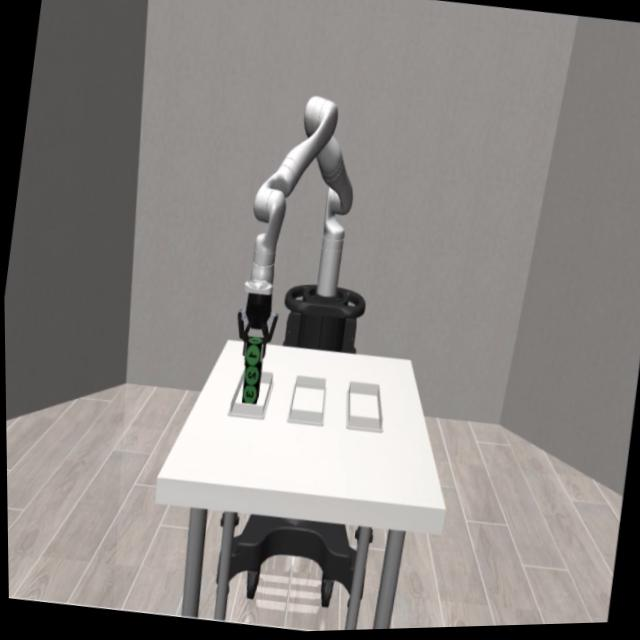cube1: (242, 334, 264, 371)
cube2: (240, 364, 263, 390)
cube3: (239, 384, 260, 408)
